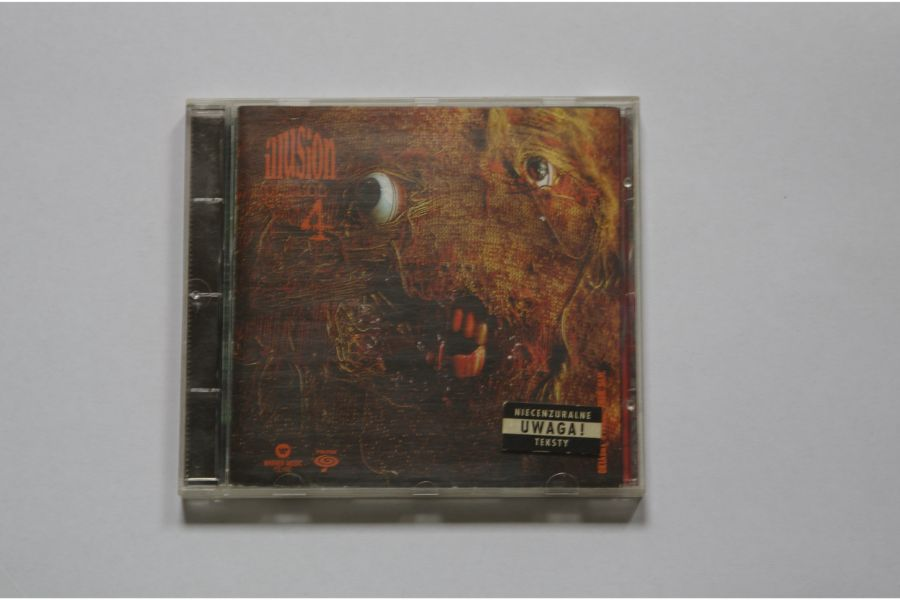album: (180, 92, 648, 496)
